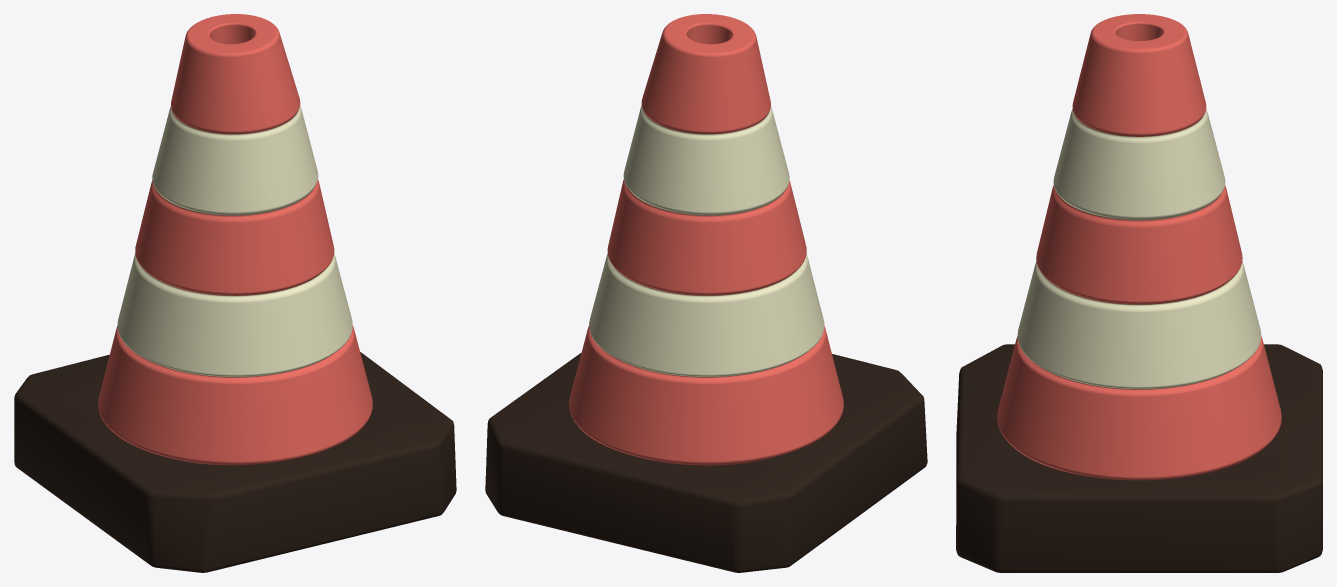
3 renders of one model, left to right at view 1: azimuth 30°, elevation 25°; view 2: azimuth 150°, elevation 25°; view 3: azimuth 270°, elevation 25°, orthographic. The views are drawn at different scales.
Visible parts, largest first — view 1: Cylinder.003, Cube; view 2: Cylinder.003, Cube; view 3: Cylinder.003, Cube.
Part boxes in pixels (bbox=[...]): Cylinder.003: bbox=[98, 14, 372, 465]; Cube: bbox=[14, 352, 456, 572]; Cylinder.003: bbox=[569, 14, 843, 465]; Cube: bbox=[485, 352, 927, 572]; Cylinder.003: bbox=[997, 14, 1281, 480]; Cube: bbox=[956, 344, 1322, 572].
Bounding box in the file's own units: 60.38 × 84.7 × 60.38.
